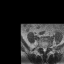CCS_normal: (43, 45, 45, 53)
LFS_severe_stenosis: (46, 44, 48, 49)
LLS_normal: (45, 45, 46, 52)
RFS_stenosis: (40, 44, 42, 49)
RLS_normal: (42, 45, 43, 52)
